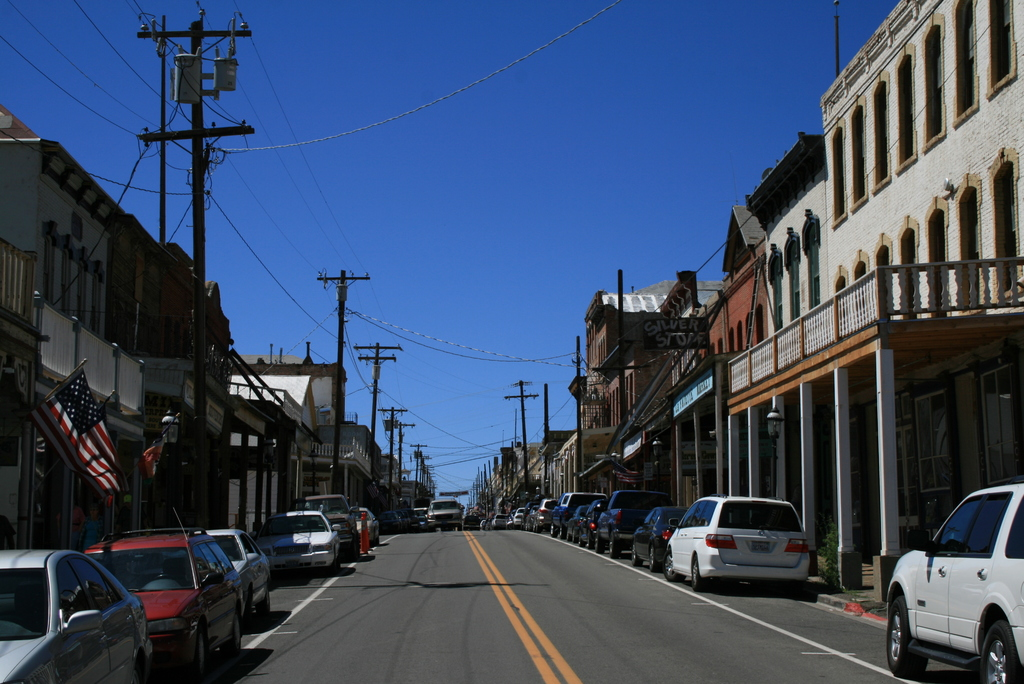Car: (408, 492, 1023, 683), (1, 491, 380, 682)
